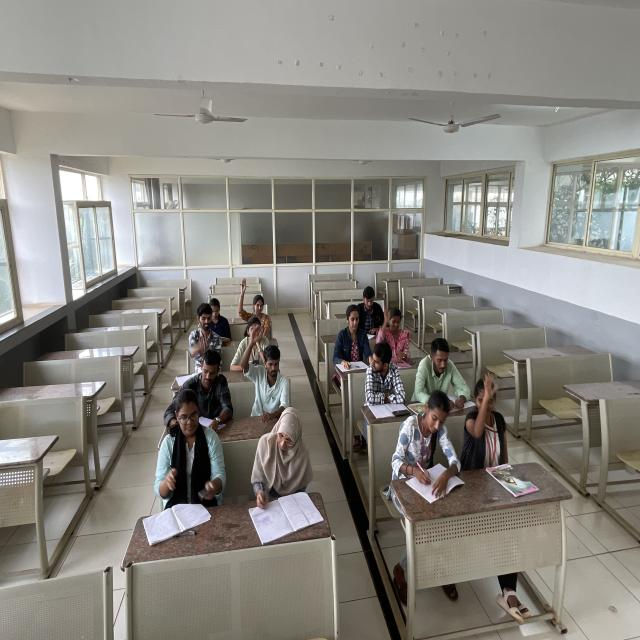Hand Rising: (460, 361, 511, 474), (243, 316, 289, 408), (230, 269, 272, 339)
Reading: (354, 279, 389, 343), (206, 296, 236, 345)
Using Phone: (150, 378, 230, 518)
Writing: (246, 402, 318, 514)
